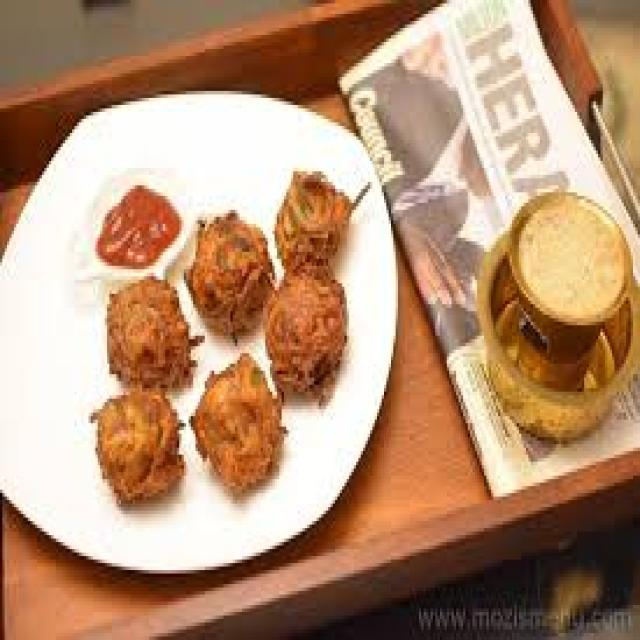BAJI: (193, 367, 283, 509), (262, 269, 347, 408), (193, 217, 276, 328), (89, 402, 180, 500), (114, 287, 191, 401), (276, 176, 347, 268)
